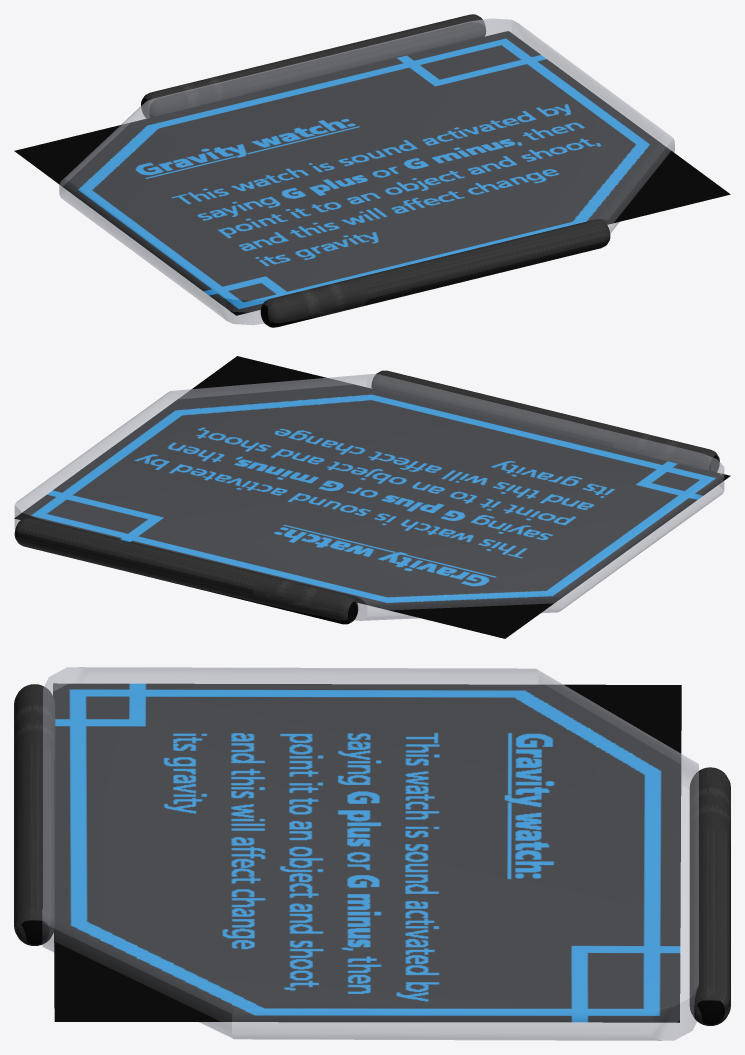
File: watch-desc.fbx
3 renders of one model, top to bottom at view 1: azimuth 30°, elevation 25°; view 2: azimuth 150°, elevation 25°; view 3: azimuth 270°, elevation 25°, orthographic. The views are drawn at different scales.
Visible parts, largest first — view 1: Cube.014, Cube.018, Cube.017; view 2: Cube.014, Cube.017, Cube.018; view 3: Cube.014, Cube.018, Cube.017.
Boxes of the visible parts, x1,y1,x2,y2 form: Cube.014: [14, 18, 730, 325]; Cube.018: [260, 219, 610, 327]; Cube.017: [141, 14, 485, 118]; Cube.014: [14, 356, 730, 638]; Cube.017: [14, 518, 358, 624]; Cube.018: [371, 370, 719, 471]; Cube.014: [42, 667, 698, 1040]; Cube.018: [14, 684, 55, 945]; Cube.017: [689, 767, 730, 1025].
Size of the model in its own units: 249 by 12.57 by 218.
3 materials, 2 textured.
